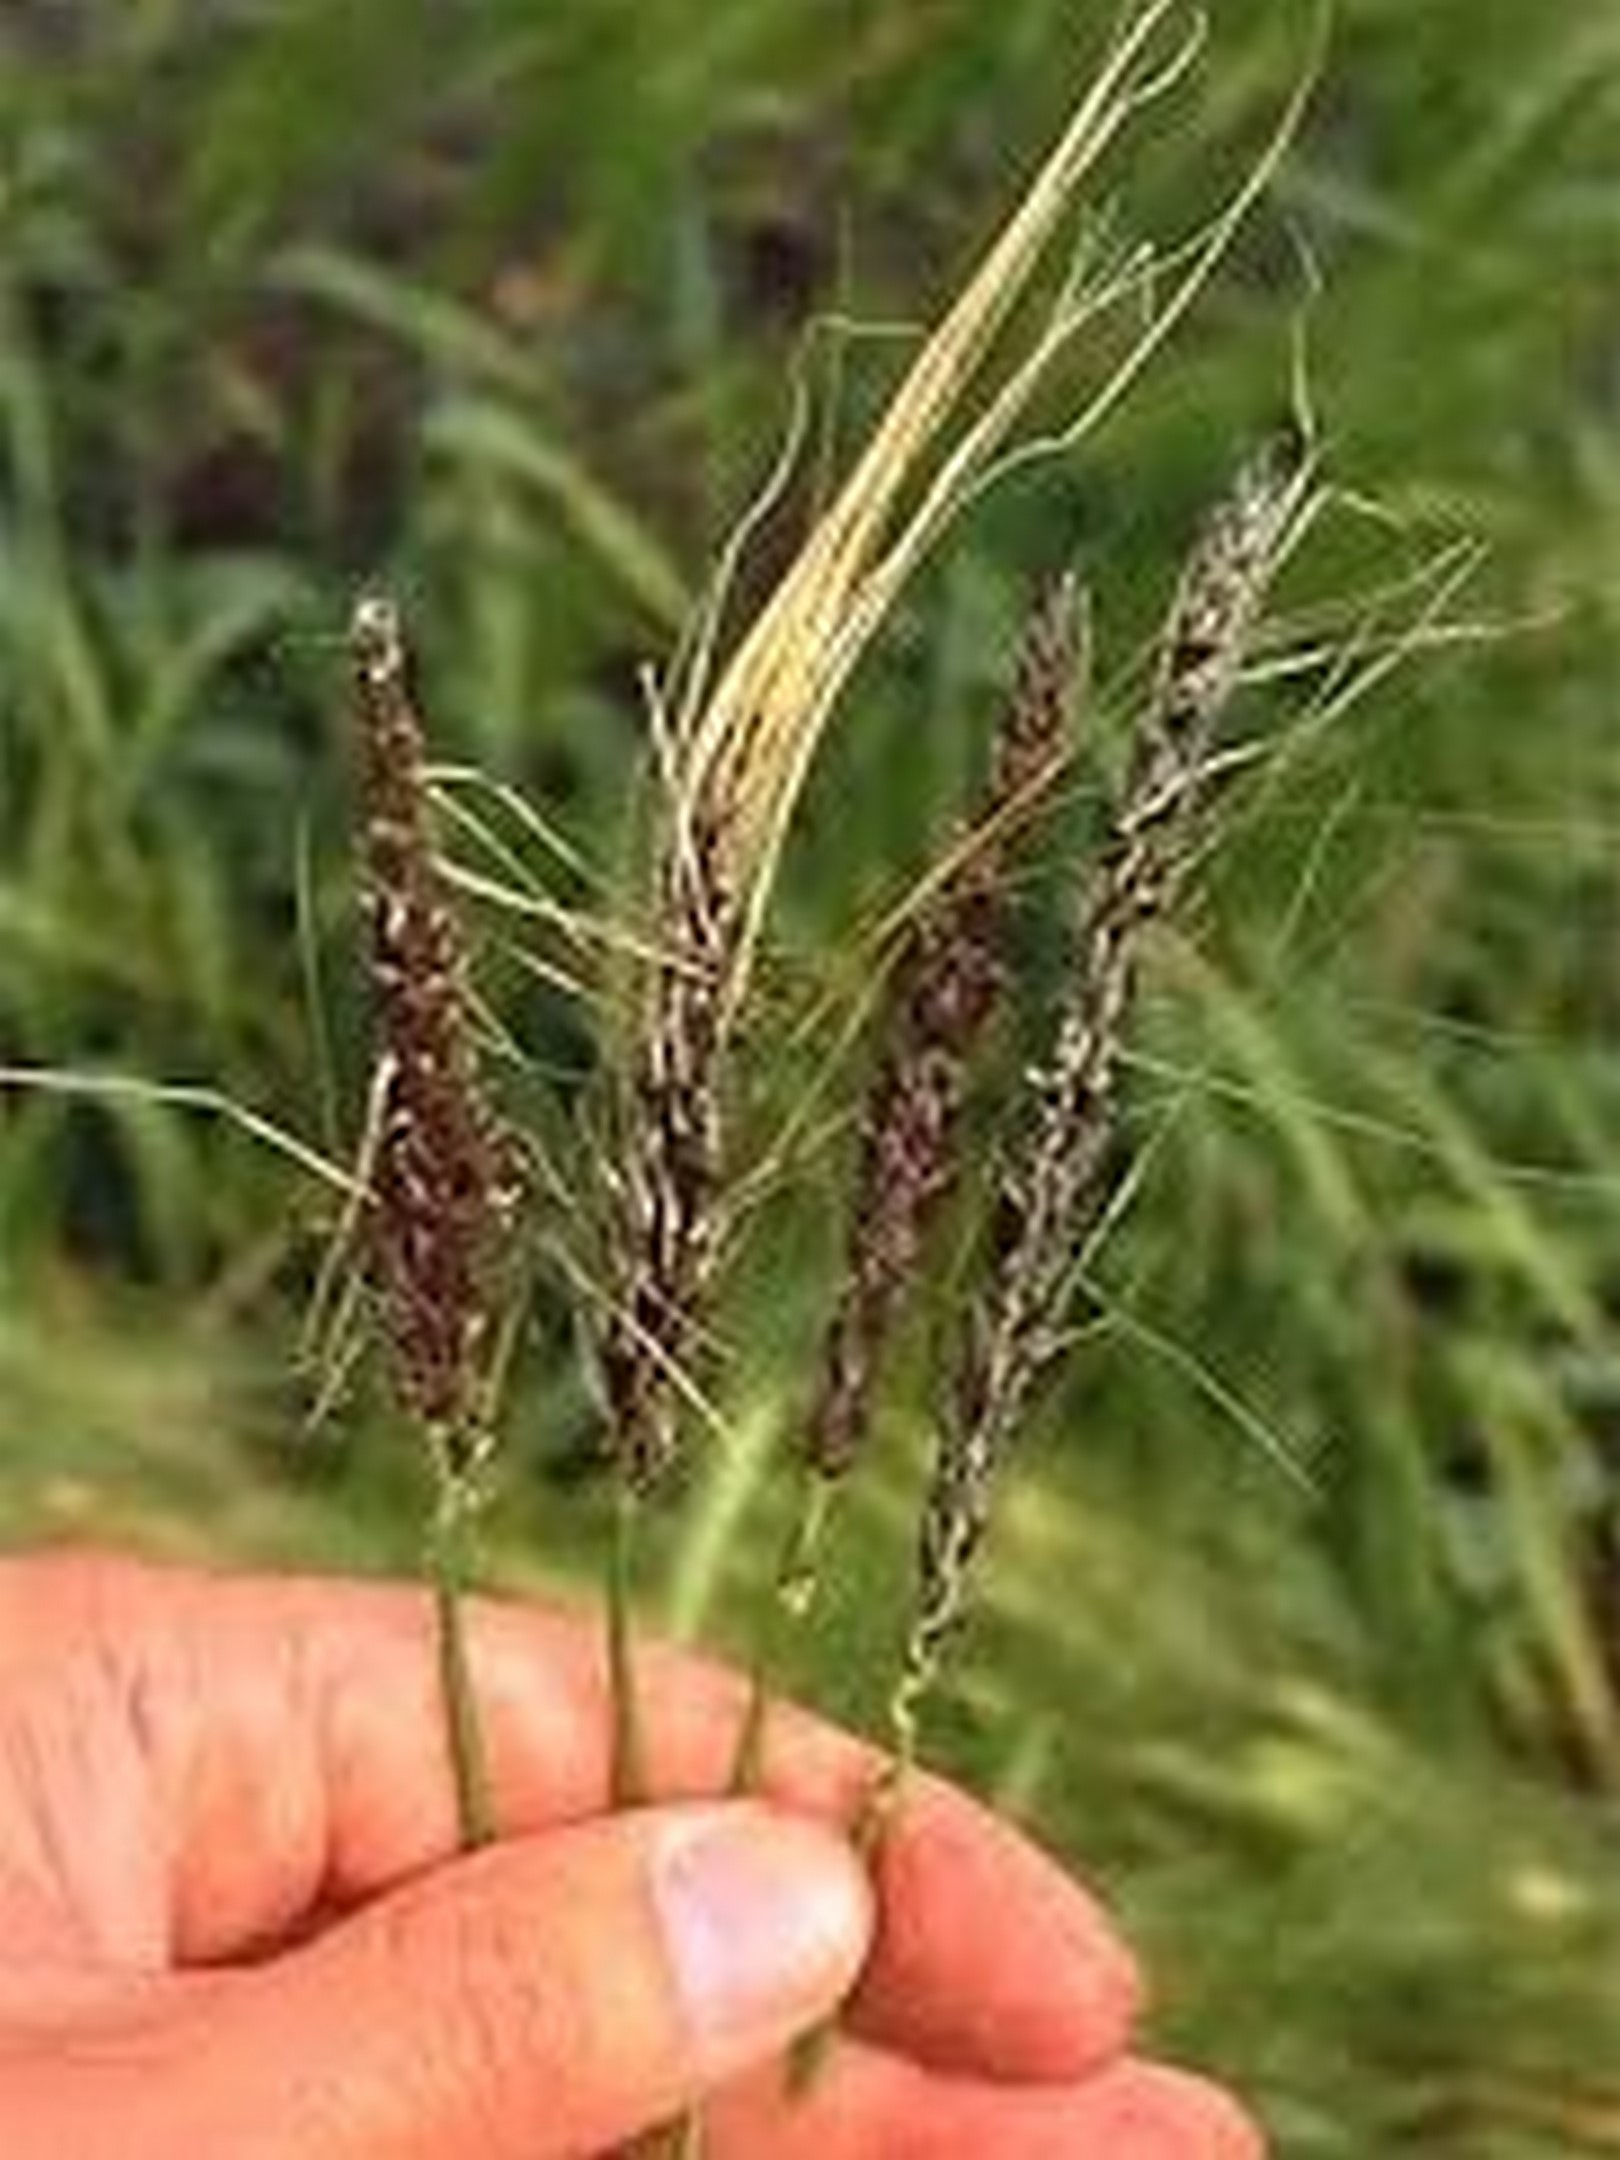Wheat Loose Smut: (209, 561, 1302, 1556)
